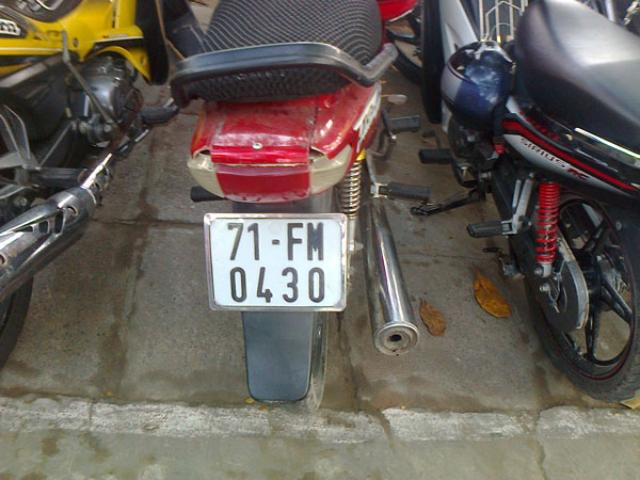plate: (209, 217, 341, 306)
